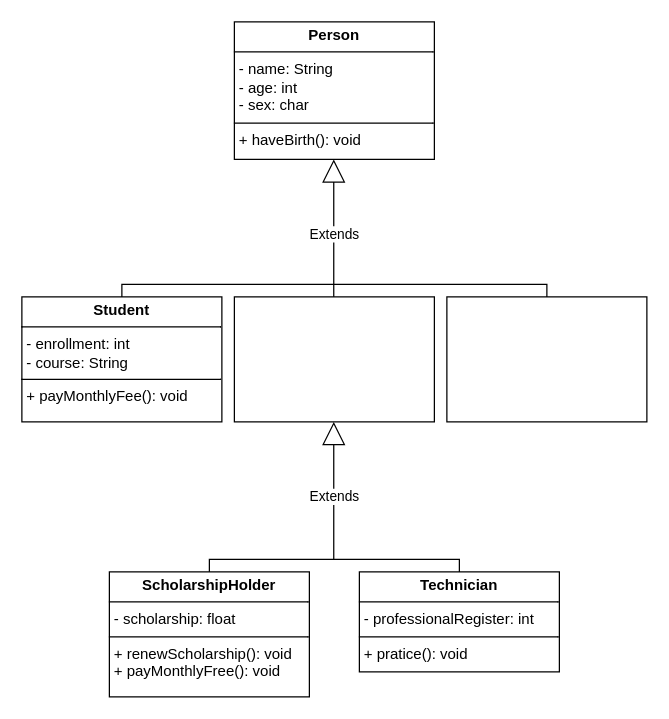
Some shapes in this 669 by 719 pixel diagram are drawn without their labels. Here are the shapes that lost their labels. From the top down, the centre of each, then its label:
the point at 333,359: Visitor
the point at 546,359: Teacher - specialty: String - salary: int + inceanseSalary(): void
